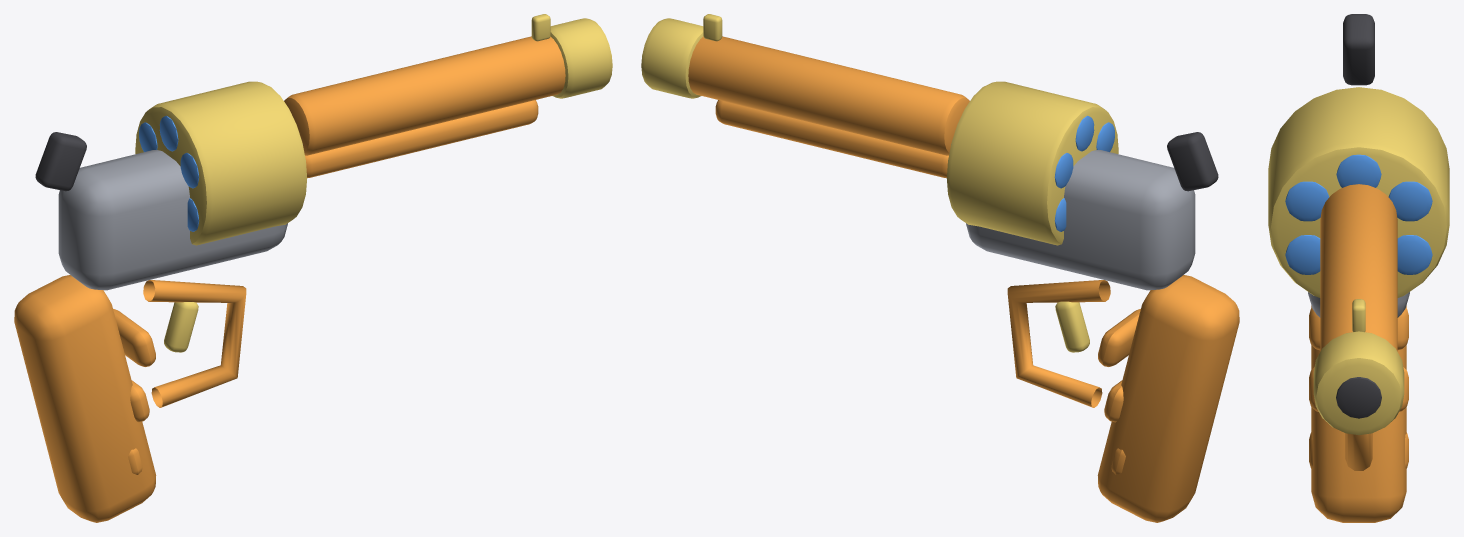
Rendered from revolver.glb.
3 renders of one model, left to right at view 1: azimuth 30°, elevation 25°; view 2: azimuth 150°, elevation 25°; view 3: azimuth 270°, elevation 25°, orthographic. The views are drawn at different scales.
Visible parts, largest first — view 1: handle, frame, drum, barrel, underlug, guard, muzzle, hammer, bump0, trigger; view 2: handle, frame, drum, barrel, underlug, guard, muzzle, hammer, bump0, trigger; view 3: drum, barrel, handle, muzzle, hammer, bore, chamber1, chamber5, chamber2, chamber4, chamber0, guard (+5 smaller).
Boxes of the visible parts, x1,y1,x2,y2 form: handle: (14, 275, 156, 522); frame: (58, 150, 287, 290); drum: (135, 81, 307, 245); barrel: (284, 36, 565, 155); underlug: (305, 100, 538, 177); guard: (143, 280, 246, 407); muzzle: (550, 18, 612, 98); hammer: (35, 132, 86, 191); bump0: (113, 309, 155, 366); trigger: (164, 302, 198, 352); handle: (1097, 275, 1239, 522); frame: (966, 150, 1195, 290); drum: (946, 81, 1118, 245); barrel: (688, 36, 969, 155); underlug: (715, 100, 948, 177); guard: (1007, 280, 1110, 407); muzzle: (641, 18, 703, 98); hammer: (1167, 132, 1218, 191); bump0: (1098, 309, 1140, 366); trigger: (1055, 301, 1089, 352); drum: (1268, 87, 1449, 297); barrel: (1320, 184, 1397, 351); handle: (1311, 305, 1406, 522); muzzle: (1313, 331, 1404, 435); hammer: (1343, 14, 1374, 85); bore: (1336, 377, 1381, 418); chamber1: (1285, 181, 1329, 221); chamber5: (1388, 181, 1432, 221); chamber2: (1285, 235, 1320, 274); chamber4: (1397, 235, 1432, 274); chamber0: (1336, 154, 1381, 187); guard: (1345, 433, 1372, 470).
Bounding box in the file's own units: 0.3601 × 0.2325 × 0.08.
